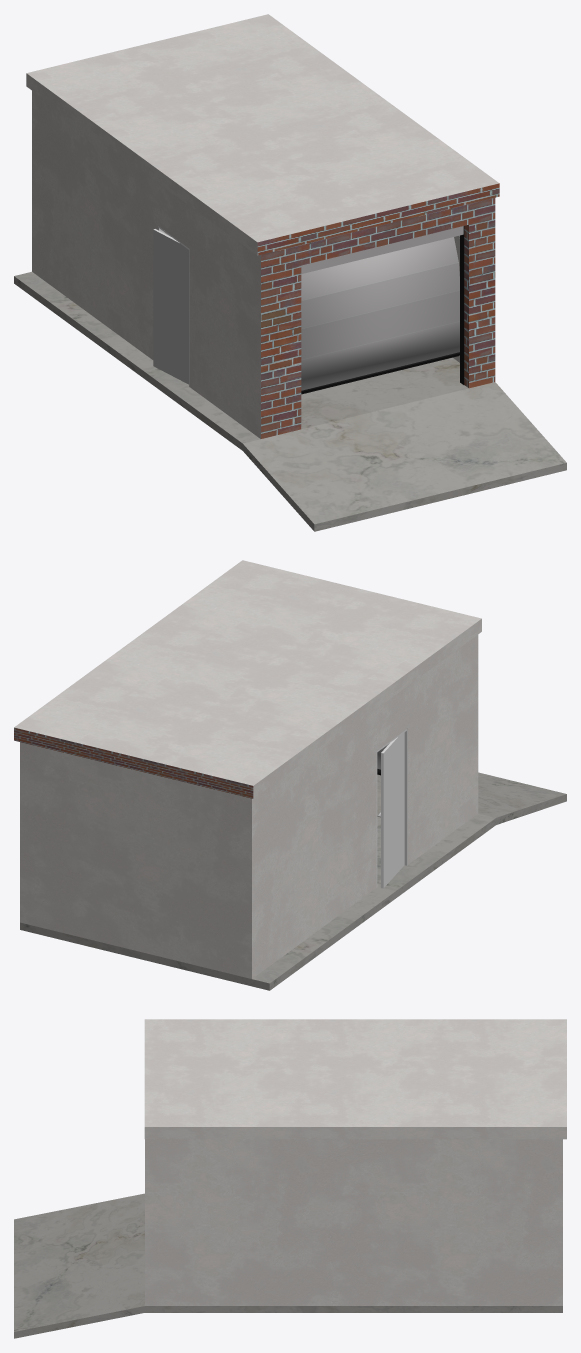
3 renders of one model, top to bottom at view 1: azimuth 30°, elevation 25°; view 2: azimuth 150°, elevation 25°; view 3: azimuth 270°, elevation 25°, orthographic. The views are drawn at different scales.
Visible parts, largest first — view 1: Walls_7, EntryDoor_8; view 2: Walls_7, EntryDoor_8; view 3: Walls_7.
Boxes of the visible parts, box(x1,y1,x2,y2) form: Walls_7: box(14, 14, 566, 531); EntryDoor_8: box(153, 226, 459, 394); Walls_7: box(14, 560, 566, 990); EntryDoor_8: box(376, 729, 407, 888); Walls_7: box(14, 1019, 566, 1338).
Size of the model in its own units: 3.64 by 3.16 by 7.43.
